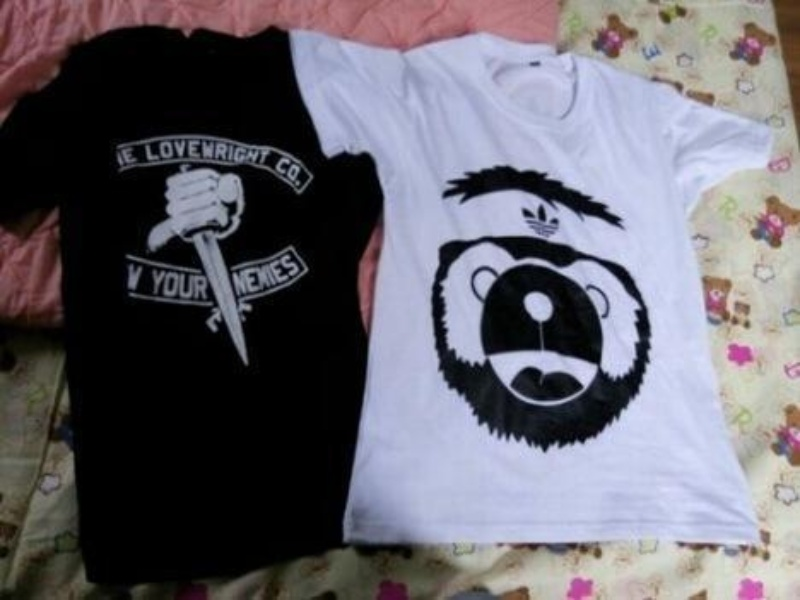short_sleeved_shirt: (291, 29, 781, 546), (2, 26, 412, 593)
